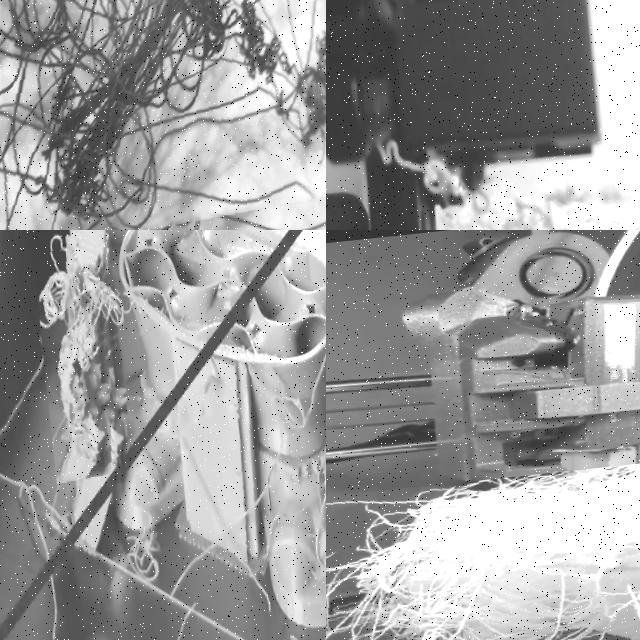spaghetti: (326, 437, 640, 640), (211, 313, 326, 640), (29, 230, 133, 485), (377, 139, 640, 230), (114, 510, 164, 590)
